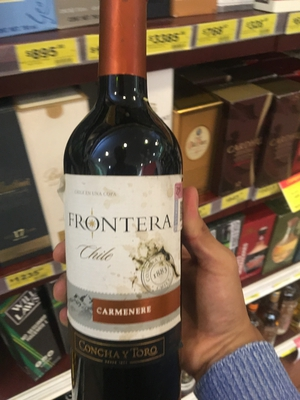frontera carmenere: (59, 5, 212, 376)
